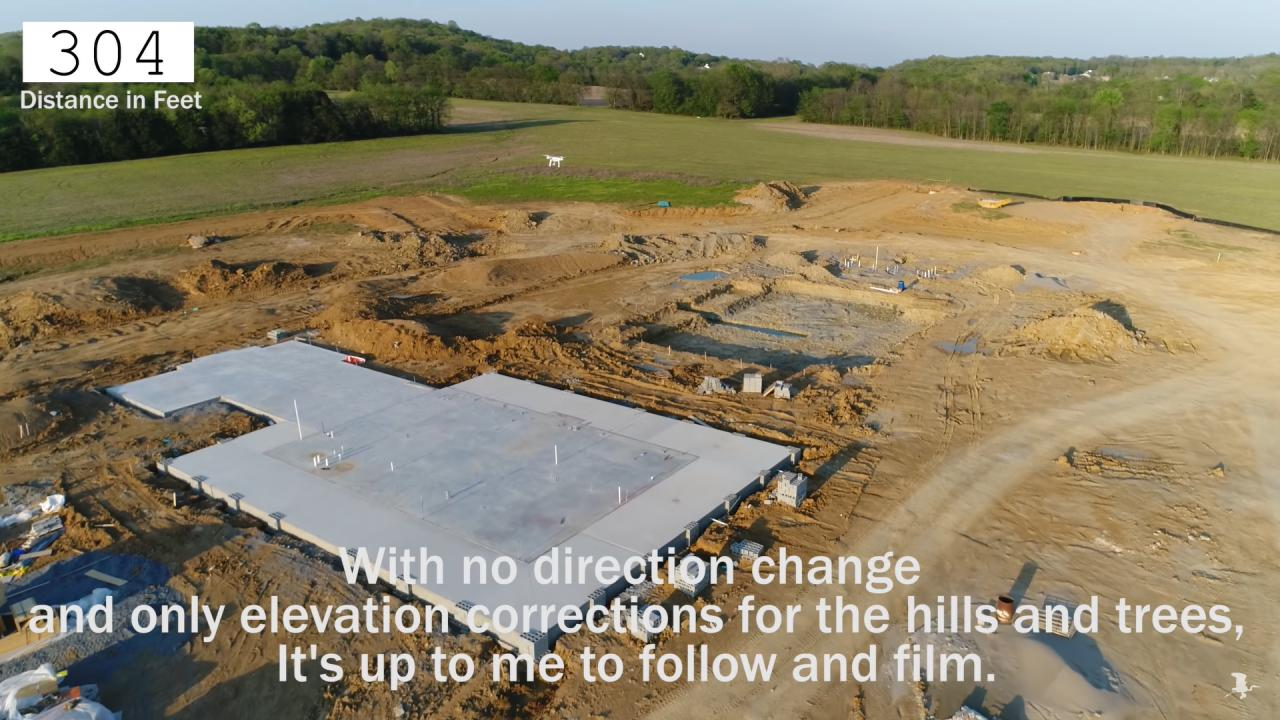Drone: (534, 146, 574, 176)
